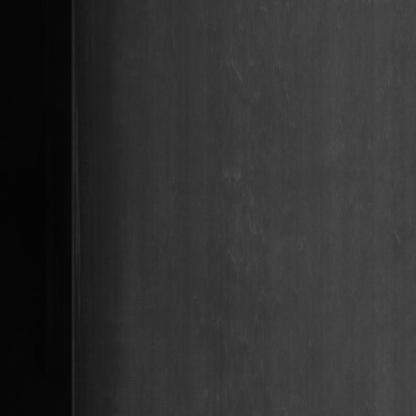silk_spot: (205, 53, 273, 316), (74, 110, 94, 270)
